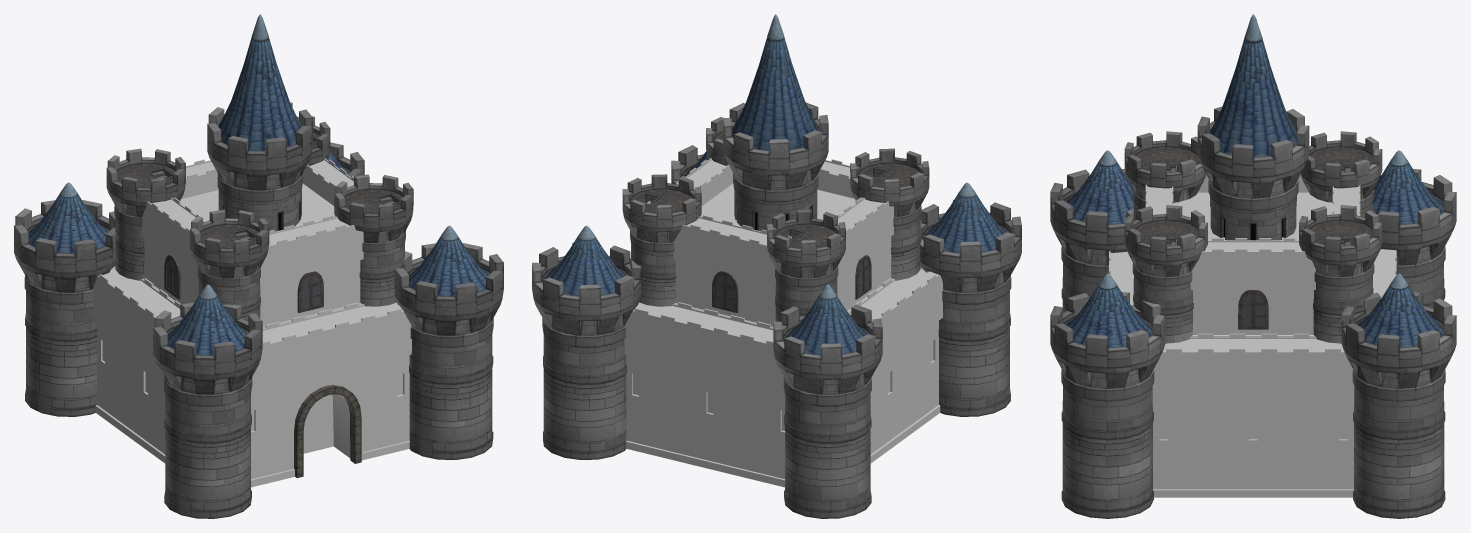
File: sb_obj_outdoor002_DemonsCastle01_set01.fbx
3 renders of one model, left to right at view 1: azimuth 30°, elevation 25°; view 2: azimuth 150°, elevation 25°; view 3: azimuth 270°, elevation 25°, orthographic. The views are drawn at different scales.
Visible parts, largest first — view 1: sb_obj_outdoor002_DemonsCastle01_set01; view 2: sb_obj_outdoor002_DemonsCastle01_set01; view 3: sb_obj_outdoor002_DemonsCastle01_set01.
Part boxes in pixels (<box>): sb_obj_outdoor002_DemonsCastle01_set01: <box>14,14,503,518</box>; sb_obj_outdoor002_DemonsCastle01_set01: <box>532,14,1021,518</box>; sb_obj_outdoor002_DemonsCastle01_set01: <box>1050,14,1456,518</box>.
Size of the model in its own units: 13.95 by 16.07 by 13.95.
